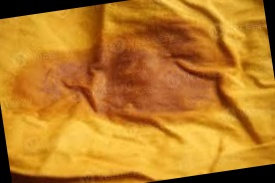oil: (17, 13, 241, 136)
